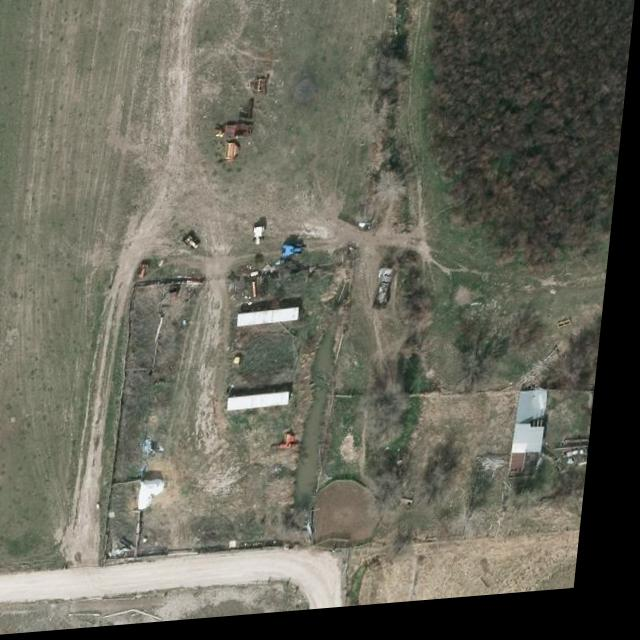vehicle: (377, 274, 401, 319)
